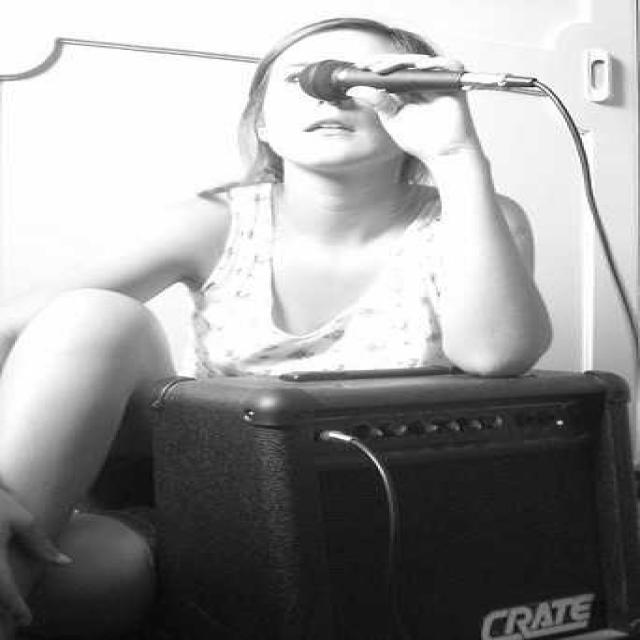microphone: (290, 57, 522, 103)
